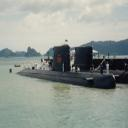submarine: (7, 45, 117, 89), (70, 44, 128, 85)
